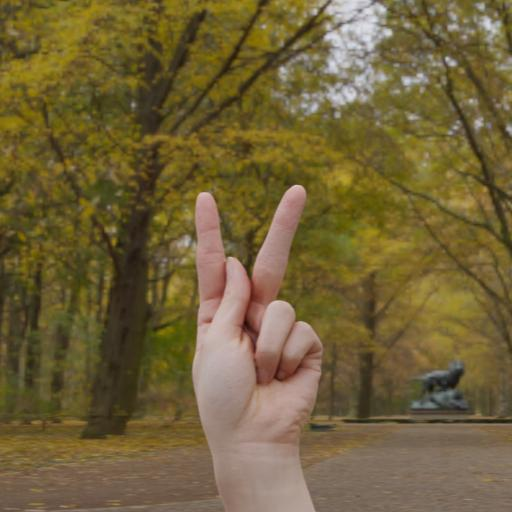K: (154, 146, 384, 488)
